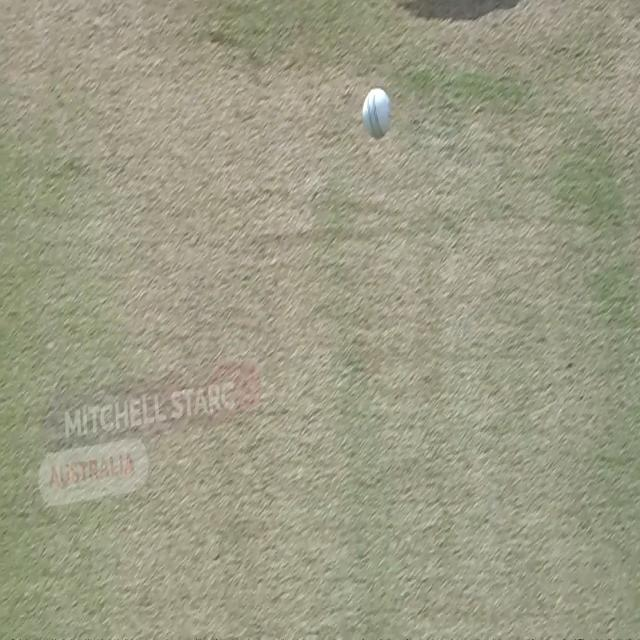ball: (358, 84, 397, 143)
